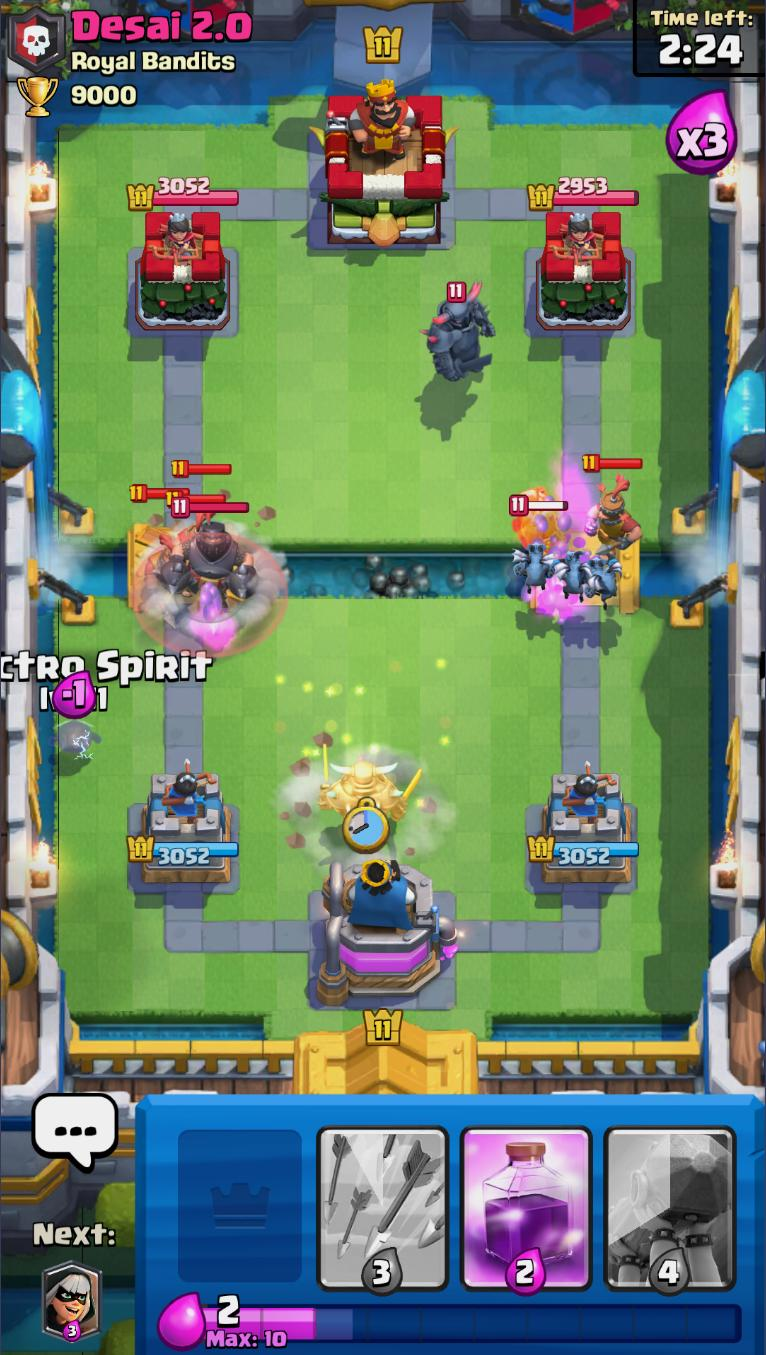ArrowDeck: (311, 1099, 454, 1296)
BanditNext: (41, 1263, 103, 1343)
BattleRamDeck: (599, 1094, 741, 1296)
Elixir: (201, 1296, 741, 1351)
Empty: (164, 1096, 313, 1294)
EnemyTower: (136, 211, 234, 331), (538, 209, 632, 333), (129, 178, 239, 212), (529, 178, 640, 211)
KingTower: (311, 79, 459, 246)
MegaKnight: (154, 496, 264, 610)
Monk: (507, 487, 570, 556)
MyKingTower: (317, 860, 460, 1007)
MyMinion: (580, 554, 634, 607), (551, 547, 600, 600), (514, 541, 561, 593)
MyPekka: (314, 742, 424, 829)
MyPrincessTower: (129, 771, 240, 889), (531, 773, 639, 889)
MyPrincessTowerHP: (126, 836, 241, 867), (531, 835, 640, 866)
Pekka: (419, 279, 499, 383)
PrincessTower: (550, 211, 605, 264), (149, 213, 204, 264)
RageDeck: (456, 1096, 597, 1294)
RoyalRecruit: (128, 485, 187, 628), (581, 454, 641, 565)
